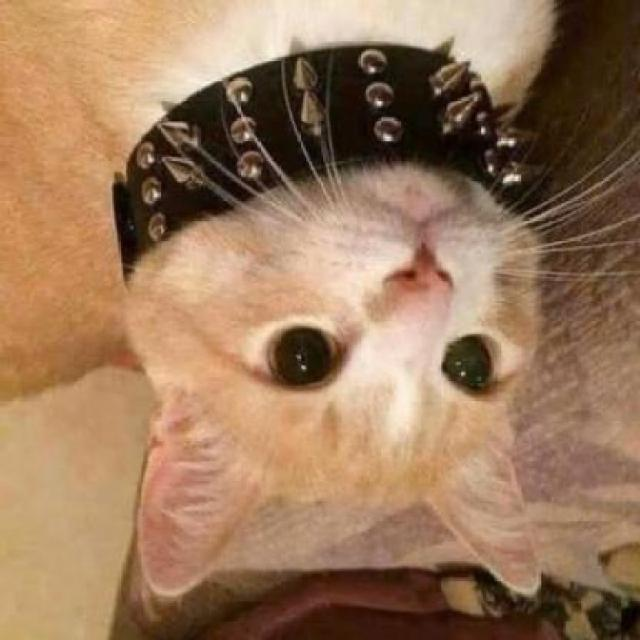cat: (80, 0, 566, 605)
